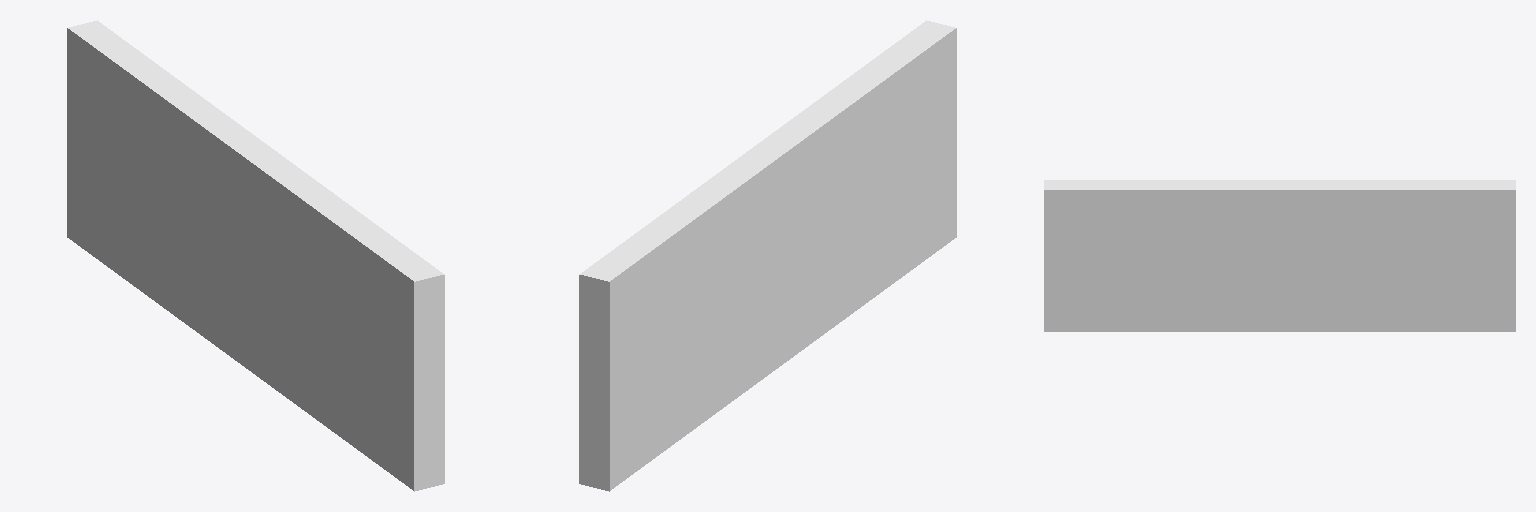
The robot description file, URDF, robot "obstacle":
<?xml version='1.0' encoding='utf-8'?>
<robot name="obstacle"><link name="obstacle_body"><collision><origin xyz="0.0 0.0 0.0" /><geometry><box size="0.03 0.6 0.2" /></geometry></collision><visual><origin xyz="0.0 0.0 0.0" /><geometry><box size="0.03 0.6 0.2" /></geometry><material name="c"><color rgba="1.0 1.0 1.0 1.0" /></material></visual></link></robot>

--- What the picture shows (computed from the rendered views, not written in the file) ---
The picture shows the robot from 3 angles, left to right: view 1: azimuth 30°, elevation 25°; view 2: azimuth 150°, elevation 25°; view 3: azimuth 270°, elevation 25°; orthographic projection.
Robot: obstacle — 1 links, 0 joints (none); root link obstacle_body; default pose: all joints at 0.
Visible links, largest first — view 1: obstacle_body; view 2: obstacle_body; view 3: obstacle_body.
Link boxes in pixels (x1,y1,x2,y2): obstacle_body: (67, 20, 444, 491); obstacle_body: (579, 20, 956, 491); obstacle_body: (1044, 180, 1515, 331).
Size in the robot's own frame: 0.03 by 0.6 by 0.2 metres.
Geometry: primitives only (box / cylinder / sphere), no mesh files.
